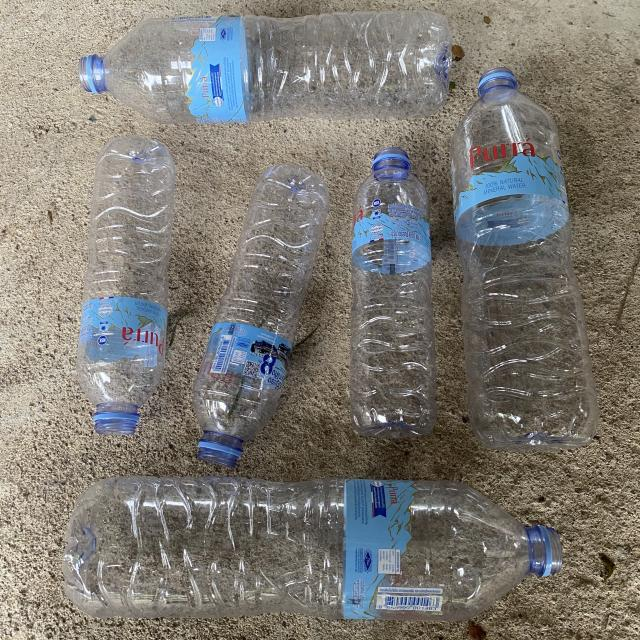plastik: (62, 476, 562, 621), (451, 69, 599, 450), (79, 11, 451, 124), (194, 164, 329, 468), (76, 136, 175, 435), (350, 148, 438, 439)
